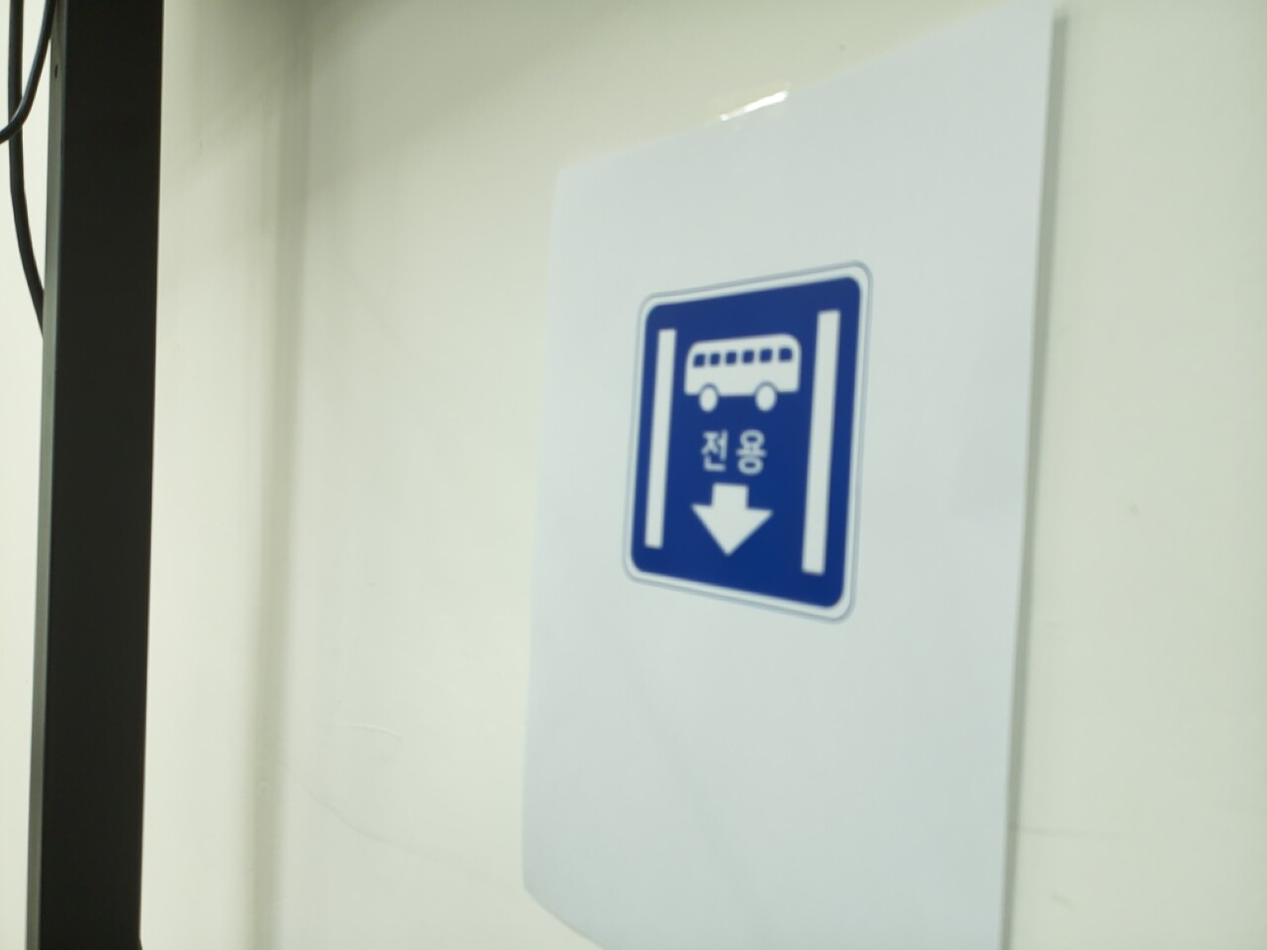bus_only_lane: (623, 267, 868, 618)
